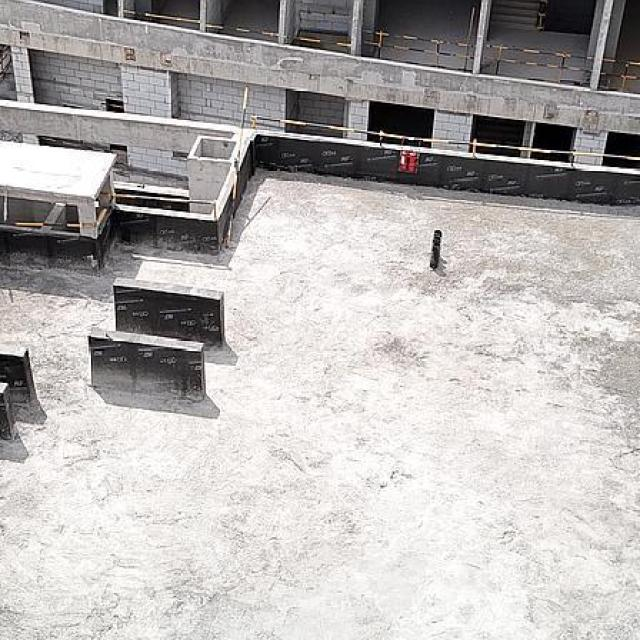edge_guardrail: (248, 113, 640, 166), (361, 29, 476, 71), (483, 44, 594, 85), (98, 191, 218, 228), (224, 85, 249, 248), (600, 57, 640, 90), (205, 22, 279, 38), (123, 9, 200, 24), (290, 35, 351, 49), (0, 223, 94, 228)
